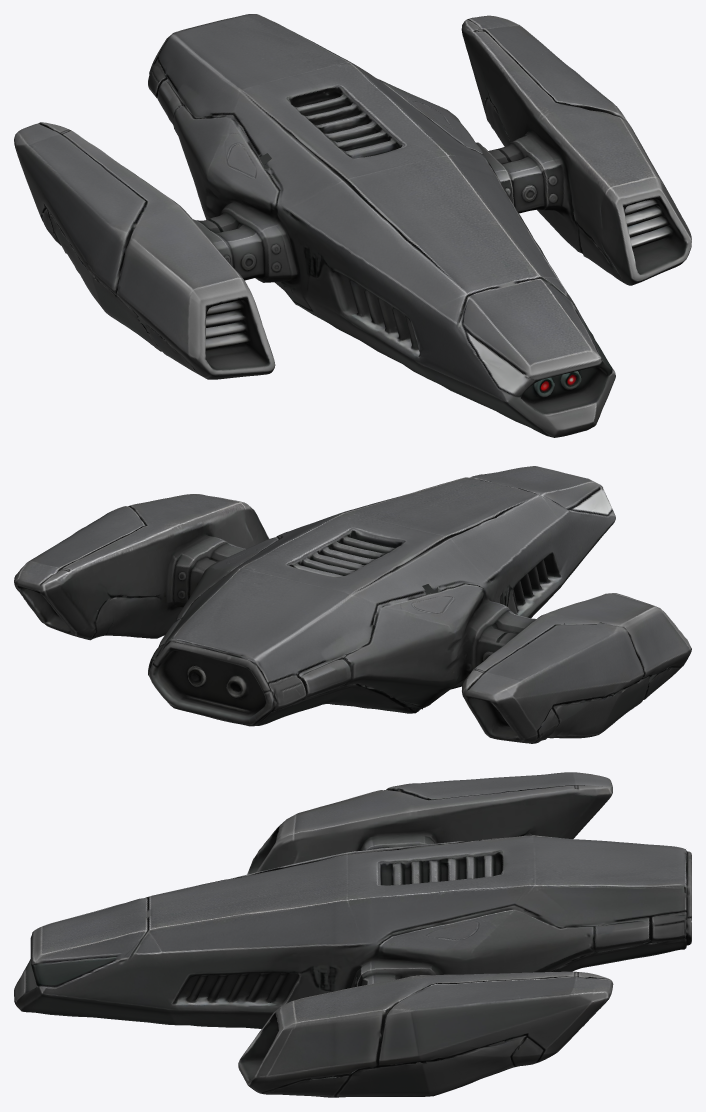
The model's file is futuristic_spacecraft_3d_model.fbx.
The picture shows the model from 3 angles, top to bottom: view 1: azimuth 30°, elevation 25°; view 2: azimuth 150°, elevation 25°; view 3: azimuth 270°, elevation 25°; orthographic projection. The views are drawn at different scales.
Parts seen in each view (by area): view 1: tripo_node_54e25248; view 2: tripo_node_54e25248; view 3: tripo_node_54e25248.
Boxes of the visible parts, x1=… form: tripo_node_54e25248: x1=14, y1=14, x2=691, y2=437; tripo_node_54e25248: x1=14, y1=466, x2=691, y2=743; tripo_node_54e25248: x1=14, y1=772, x2=691, y2=1097.
Size of the model in its own units: 82.84 by 22.98 by 98.06.
Materials: 1 (1 with a texture image).
